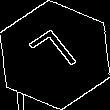L_SE: (25, 26, 85, 84)
